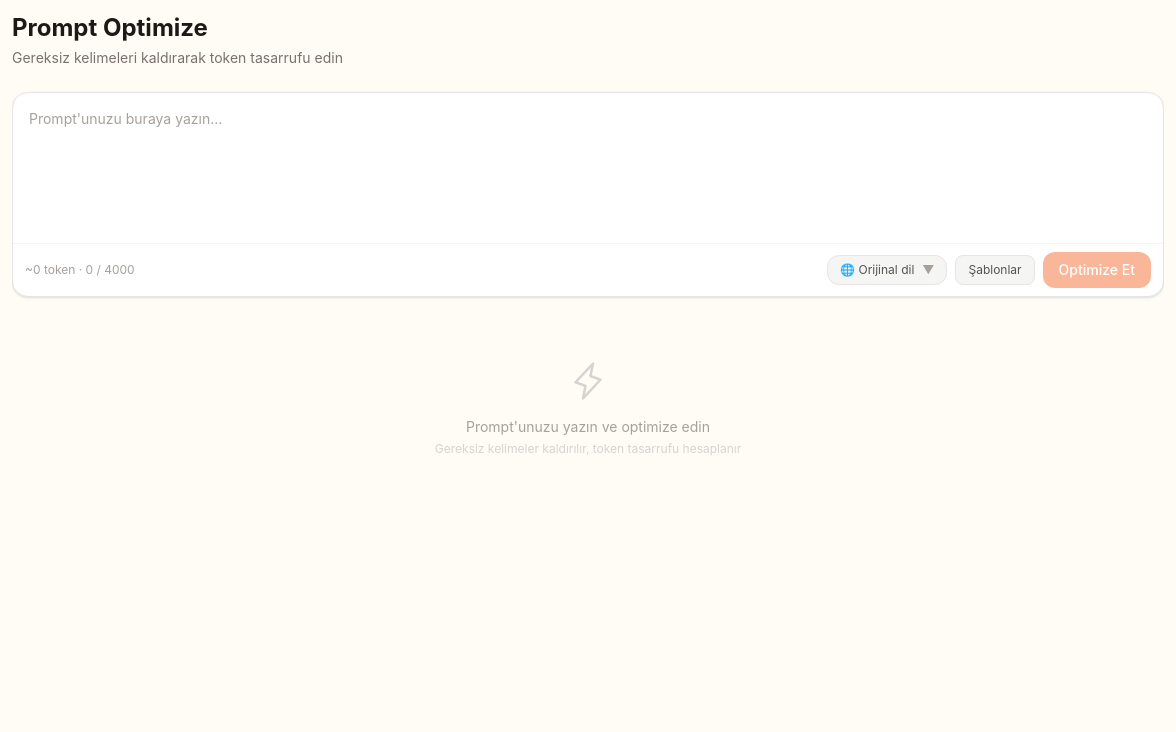
Test: Optimize — şablonlar › "Şablonlar" butonuna tıklayınca şablon listesi açılmalı
Click the button "Şablonlar": (995, 270) [956,255,1035,285]
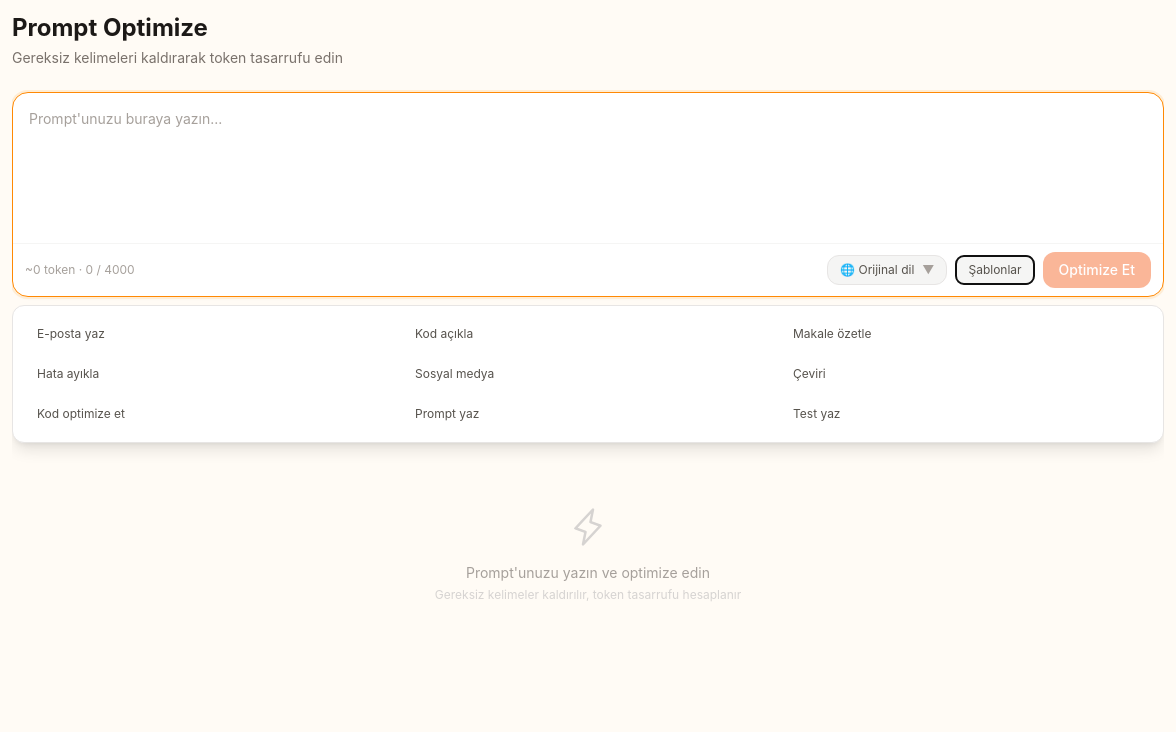
Expected: the button "E-posta yaz" is shown, [25,318,395,350]
